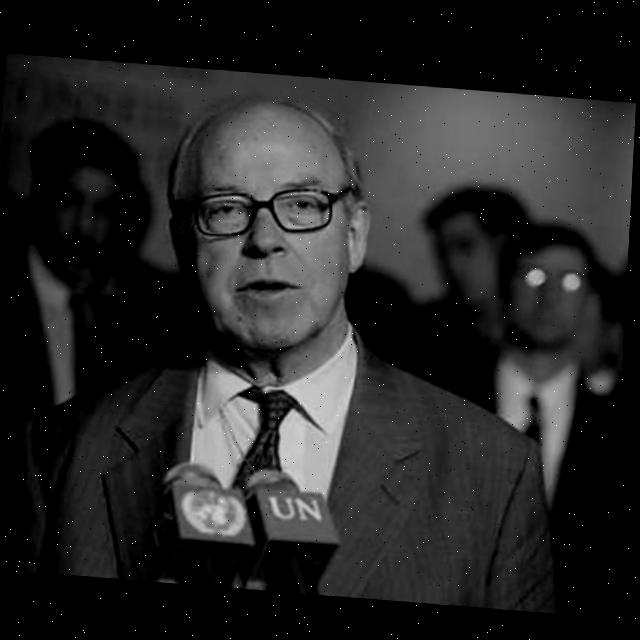face: (152, 98, 392, 362)
